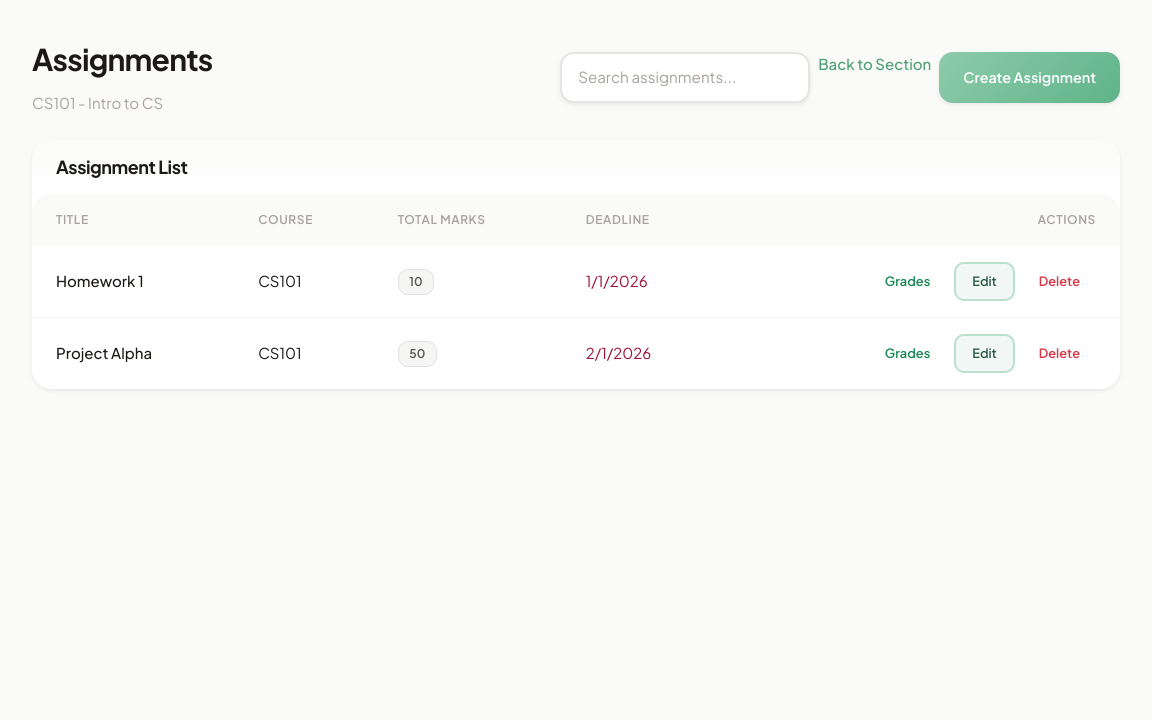
AssignmentsPage › opens create modal
Click the button "Create Assignment".
click(1030, 78)  # box [939,52,1120,103]
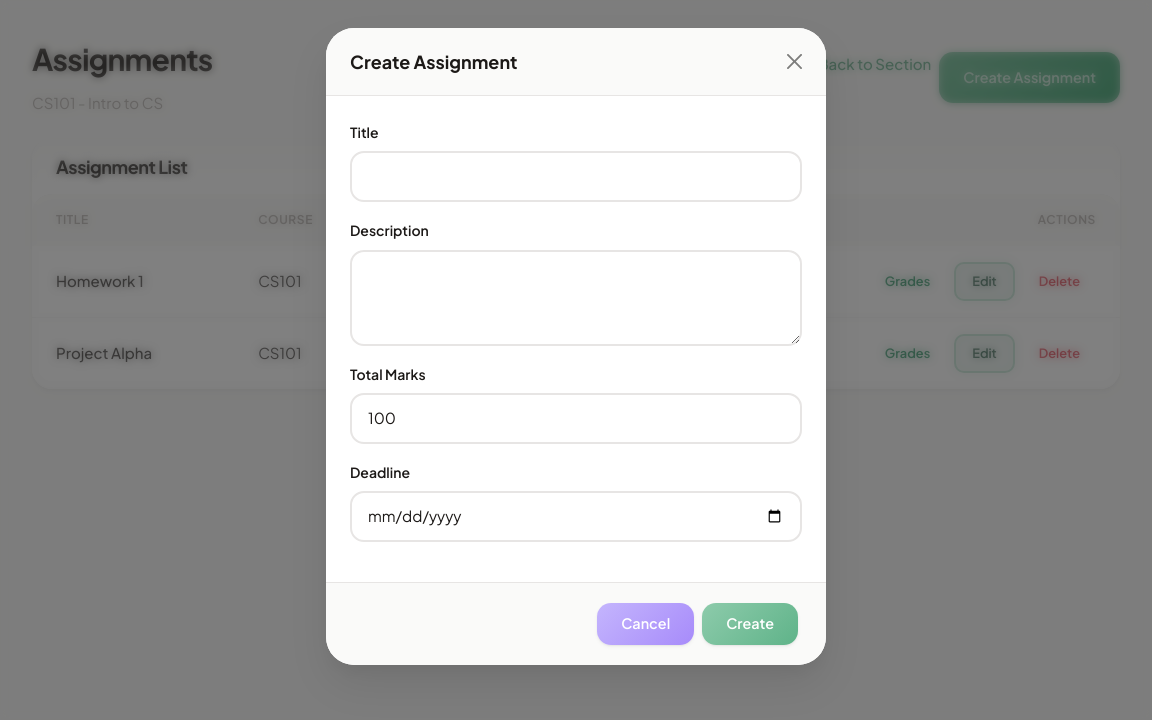
Now the text "Create Assignment" is shown, box [350,48,518,75]
